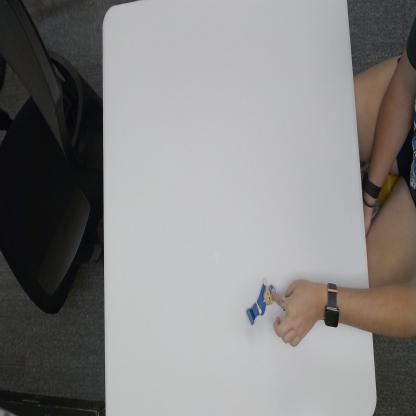Hand: (272, 274, 322, 350), (323, 274, 341, 332)
